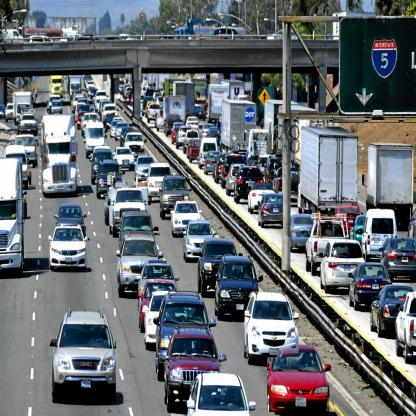car: (52, 310, 117, 403), (269, 346, 336, 413), (246, 293, 300, 359), (50, 227, 89, 271), (383, 239, 416, 284), (164, 178, 191, 215), (260, 194, 285, 233), (52, 100, 64, 114)
container: (40, 117, 79, 198)
truck: (301, 125, 358, 210)
